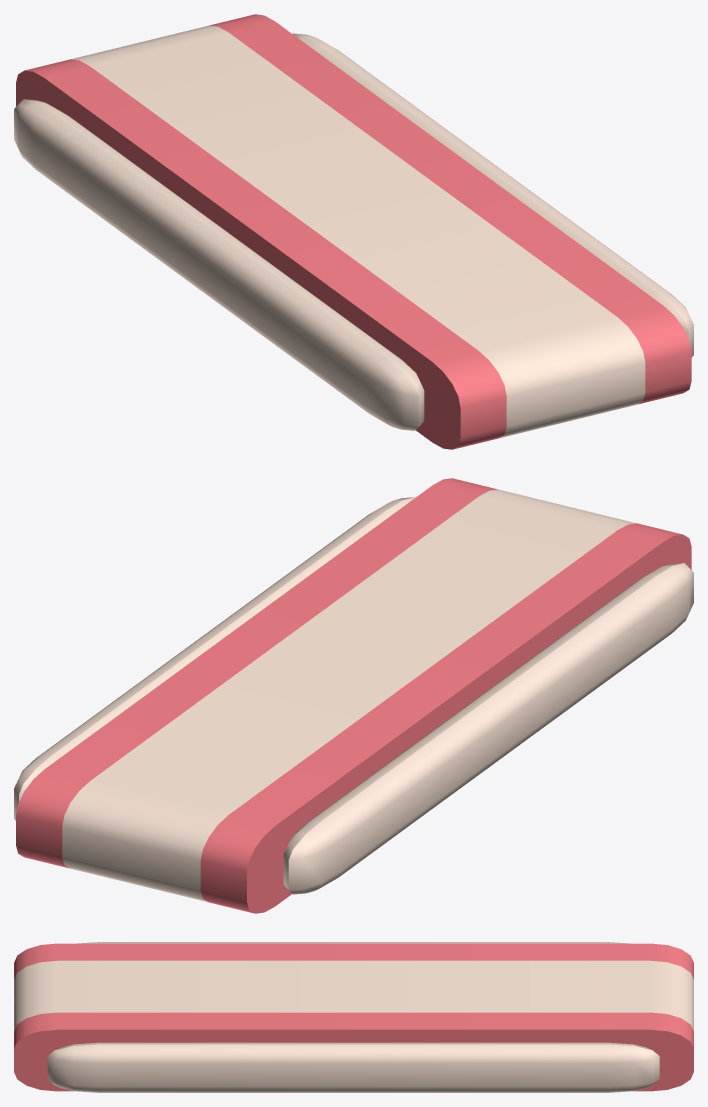
Rendered from Props_Conveyor_Pink_04.fbx.
The picture shows the model from 3 angles, top to bottom: view 1: azimuth 30°, elevation 25°; view 2: azimuth 150°, elevation 25°; view 3: azimuth 270°, elevation 25°; orthographic projection. The views are drawn at different scales.
Parts seen in each view (by area): view 1: Props_Conveyor_Pink_04; view 2: Props_Conveyor_Pink_04; view 3: Props_Conveyor_Pink_04.
Part boxes in pixels (box(x1,y1,x2,y2)): Props_Conveyor_Pink_04: box(14, 14, 693, 449); Props_Conveyor_Pink_04: box(14, 478, 693, 913); Props_Conveyor_Pink_04: box(14, 942, 693, 1092).
Bounding box in the file's own units: 80 × 20 × 200.
